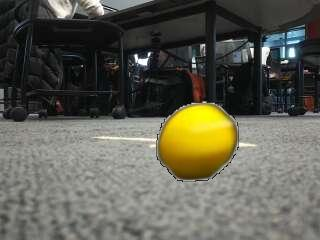lemon: (160, 107, 236, 181)
